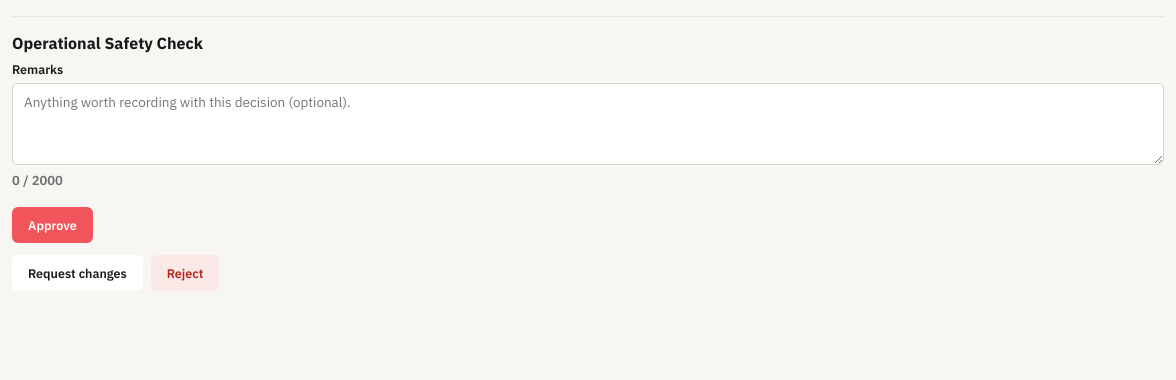
AC1, AC2: confirming sends remarks and reloads the page
The image size is (1176, 380).
Type "Looks safe." into the text box labelled "Remarks" at point(588, 124), box [12,83,1164,165]
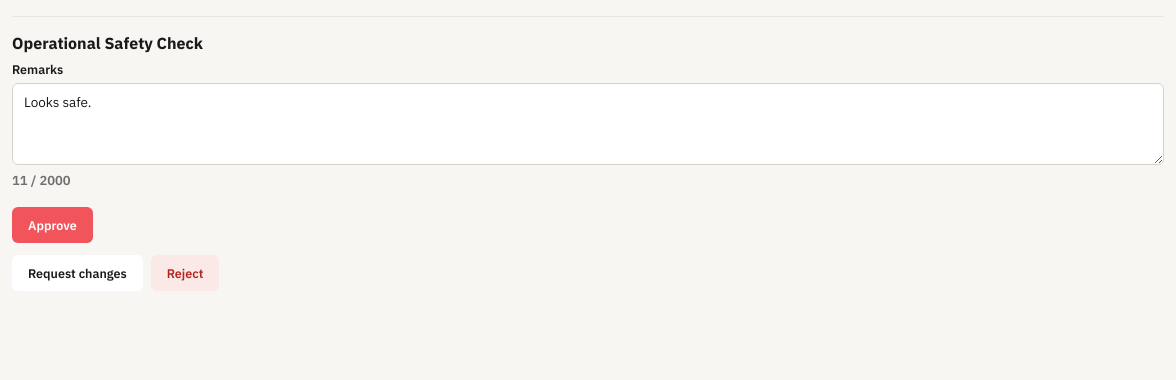
Click the button "Approve" at point(52, 225), box [12,207,93,243]
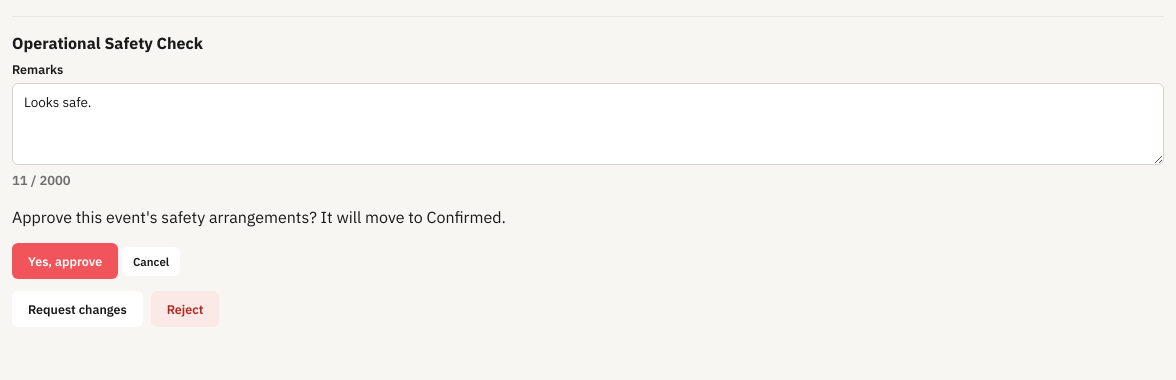
Click the button "Yes, approve" at point(65, 261), box [12,243,118,279]
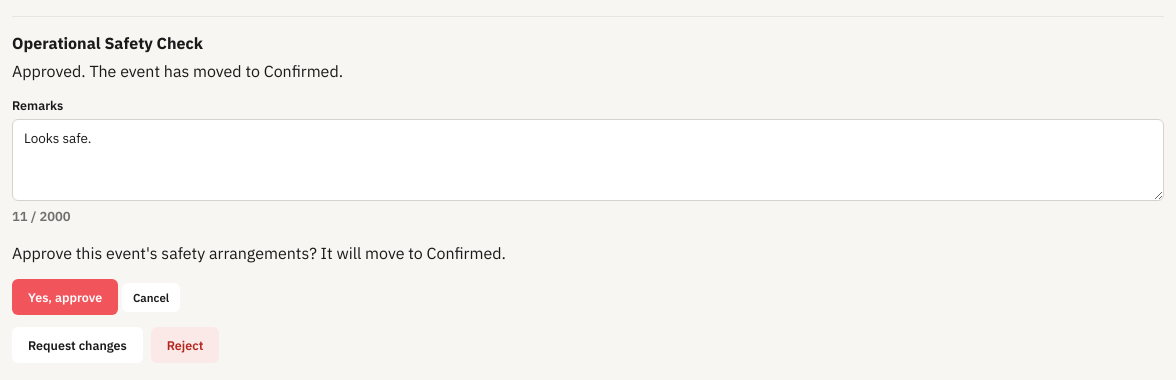
Now the text "Approved. The event has moved to Confirmed." is shown, box [12,61,343,81]
